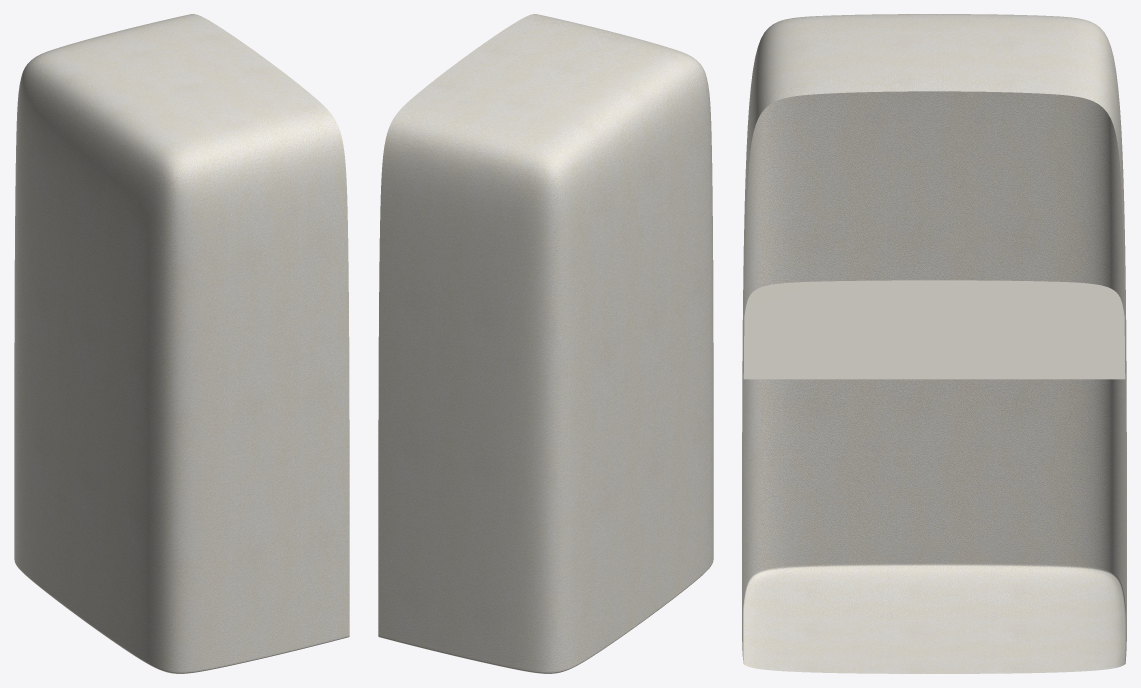
Rendered from fridge_body.fbx 18-33-14-695.fbx.
3 renders of one model, left to right at view 1: azimuth 30°, elevation 25°; view 2: azimuth 150°, elevation 25°; view 3: azimuth 270°, elevation 25°, orthographic. The views are drawn at different scales.
Parts seen in each view (by area): view 1: Body; view 2: Body; view 3: Body.
Part boxes in pixels (bbox=[...]): Body: bbox=[14, 14, 349, 673]; Body: bbox=[378, 14, 713, 673]; Body: bbox=[742, 14, 1126, 673].
Size of the model in its own units: 294 by 809 by 483.
